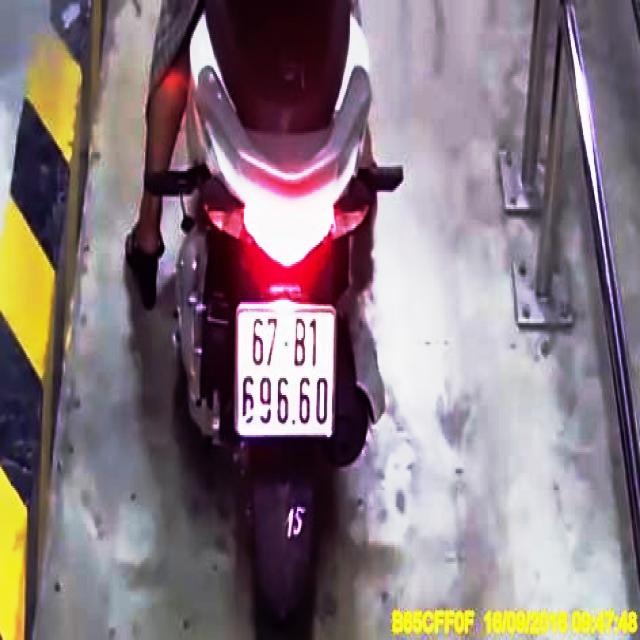license_plate: (235, 308, 337, 433)
